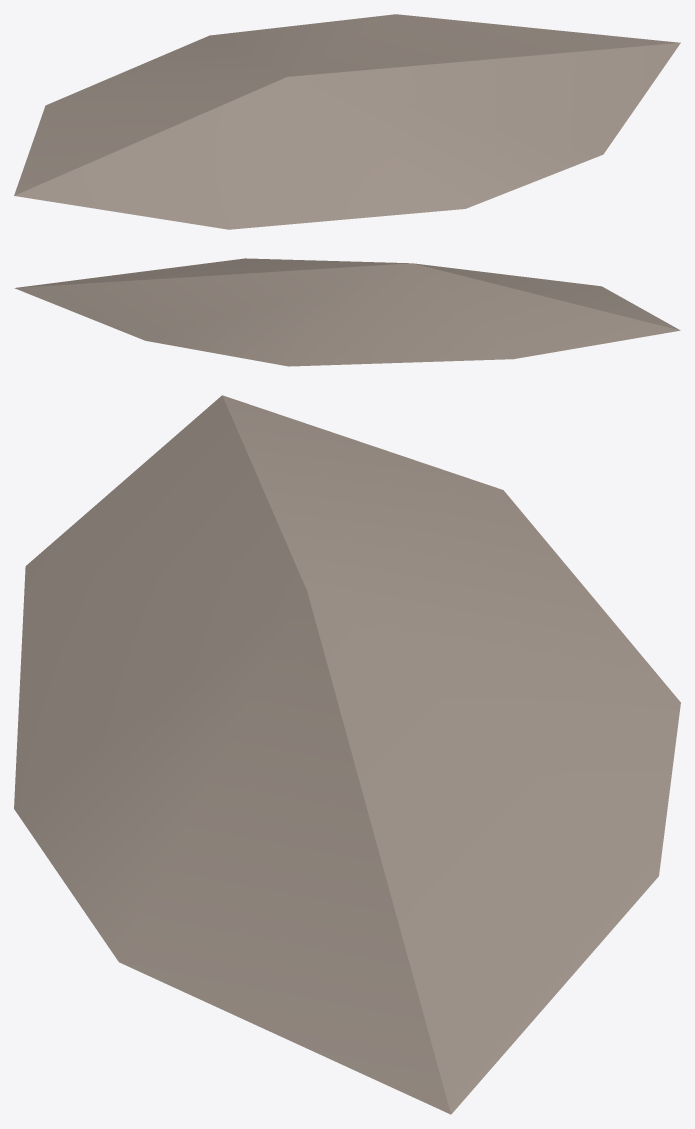
Rendered from Leaf_Single.fbx.
The picture shows the model from 3 angles, top to bottom: view 1: azimuth 30°, elevation 25°; view 2: azimuth 150°, elevation 25°; view 3: azimuth 270°, elevation 25°; orthographic projection. The views are drawn at different scales.
Visible parts, largest first — view 1: Leaf_Single; view 2: Leaf_Single; view 3: Leaf_Single.
Part boxes in pixels (x1,y1,x2,y2): Leaf_Single: [14, 14, 680, 229]; Leaf_Single: [14, 258, 680, 366]; Leaf_Single: [14, 395, 680, 1114].
Bounding box in the file's own units: 28.57 × 3.88 × 13.6.
